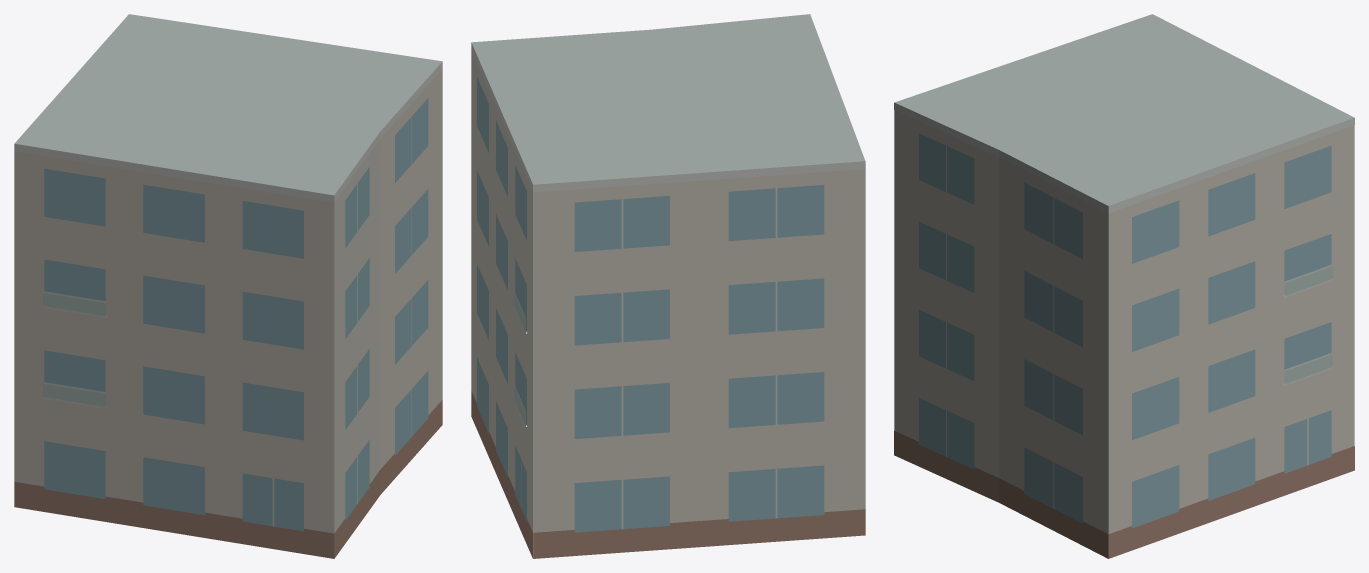
The model's file is survey-upis-32922545.glb.
The picture shows the model from 3 angles, left to right: view 1: azimuth 30°, elevation 25°; view 2: azimuth 150°, elevation 25°; view 3: azimuth 270°, elevation 25°; orthographic projection. The views are drawn at different scales.
Visible parts, largest first — view 1: survey-upis-32922545.tmp; view 2: survey-upis-32922545.tmp; view 3: survey-upis-32922545.tmp.
Boxes of the visible parts, left/top/right/bottom form: survey-upis-32922545.tmp: left=14, top=14, right=442, bottom=558; survey-upis-32922545.tmp: left=471, top=14, right=865, bottom=558; survey-upis-32922545.tmp: left=894, top=14, right=1354, bottom=558.
Bounding box in the file's own units: 13.73 × 11.75 × 13.91.
